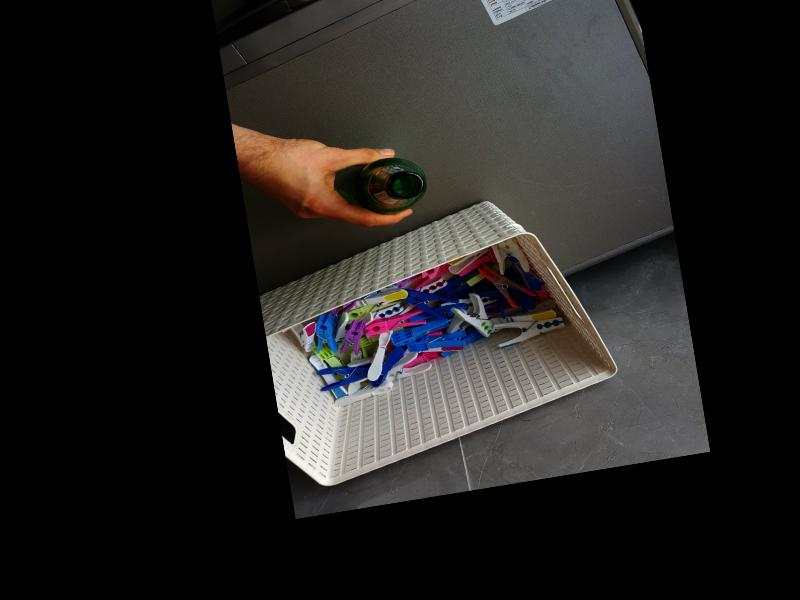Beer: (344, 152, 430, 219)
